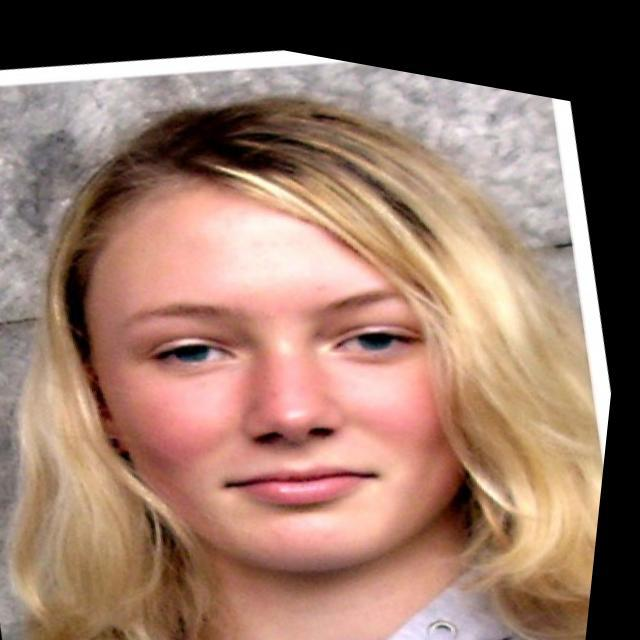Nonhelmet: (38, 105, 528, 587)
